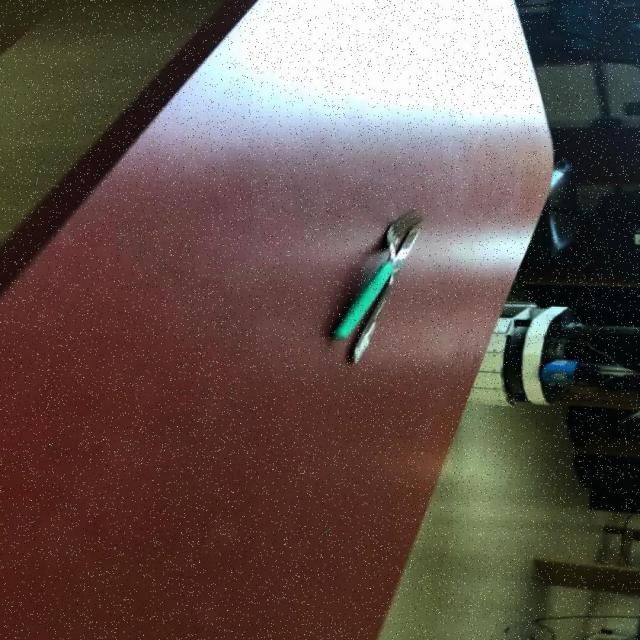Knife: (328, 206, 423, 363)
